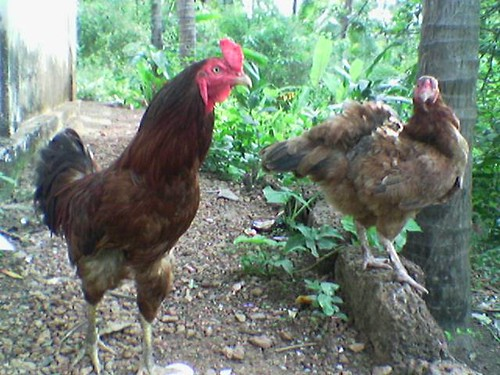chicken: (36, 33, 219, 359), (259, 51, 465, 303)
